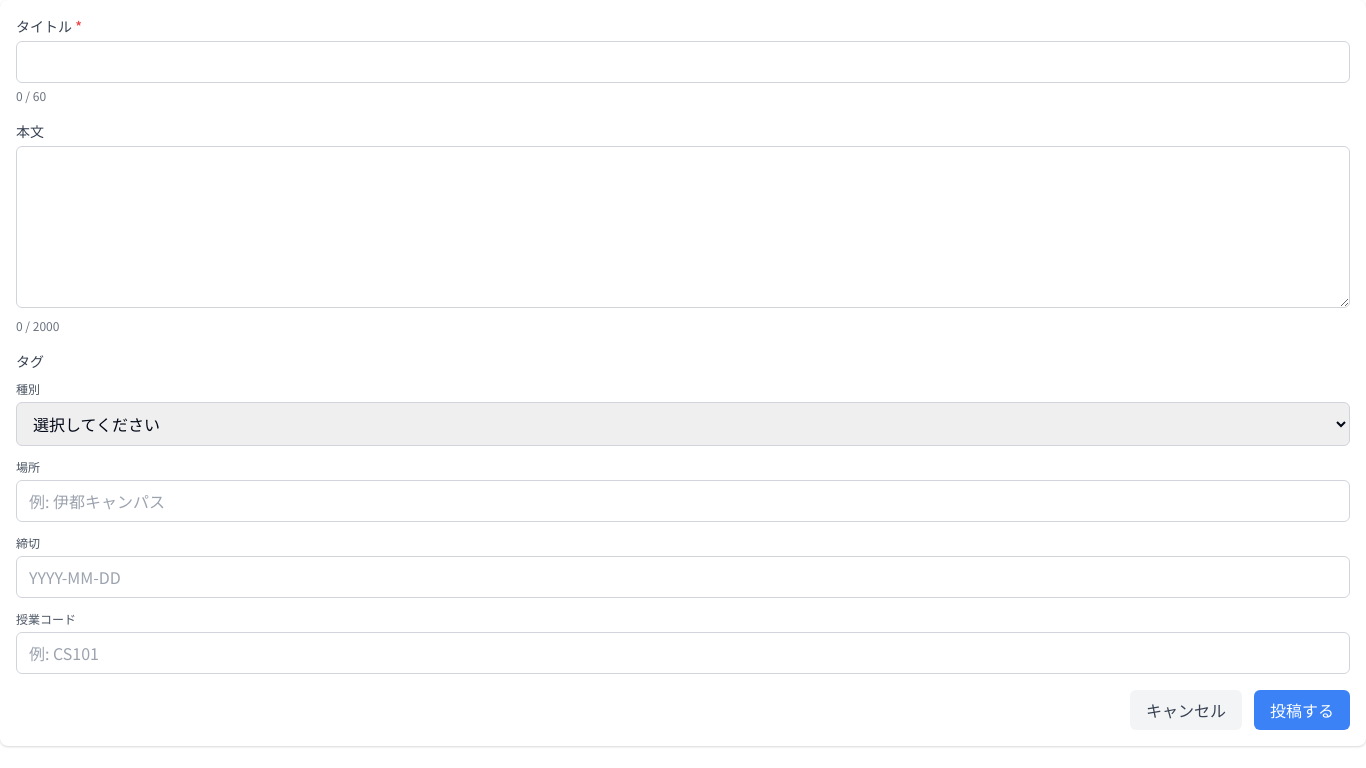
Test case: ThreadForm › validates title is required
This screenshot has width=1366, height=768.
Click the button "投稿する".
click(1302, 710)  # box x1=1254 y1=690 x2=1350 y2=730
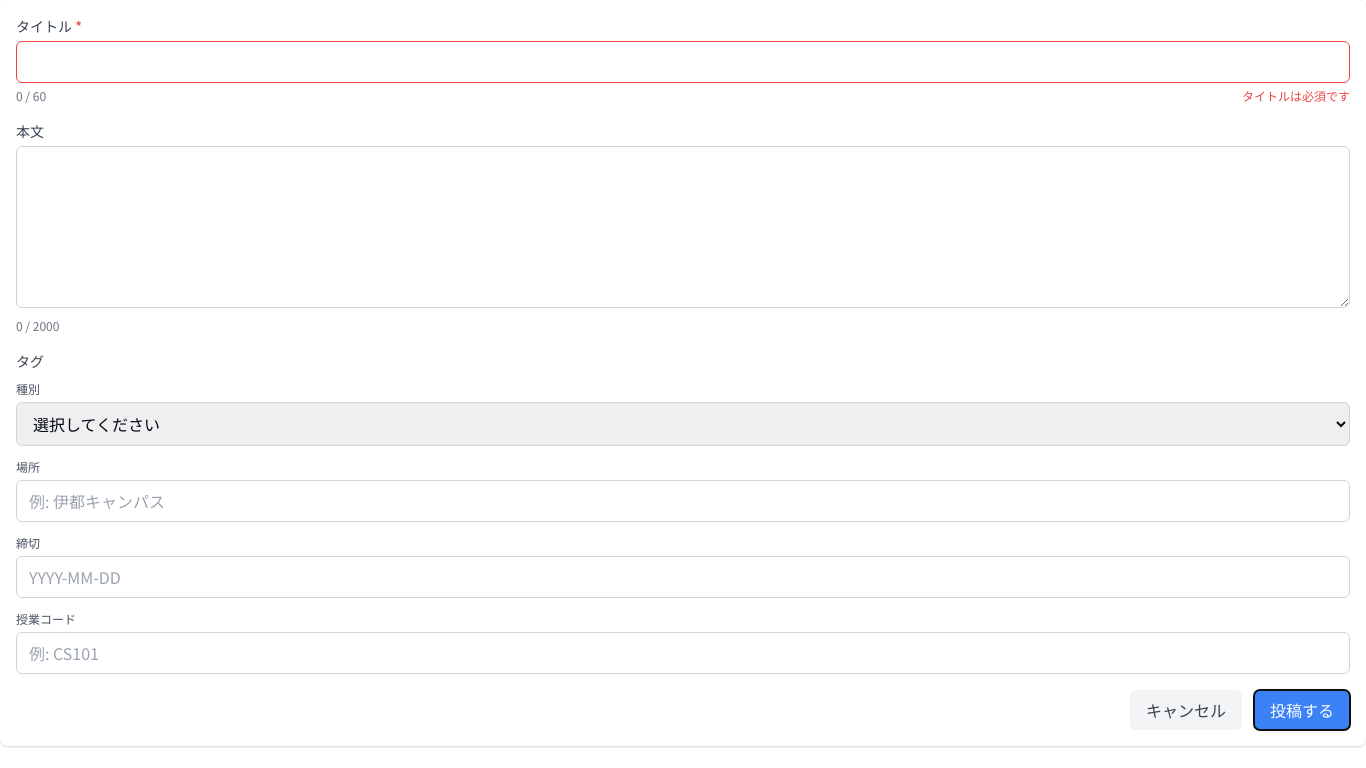
expect the text "タイトルは必須です" is shown: met, box x1=1242 y1=87 x2=1350 y2=105
